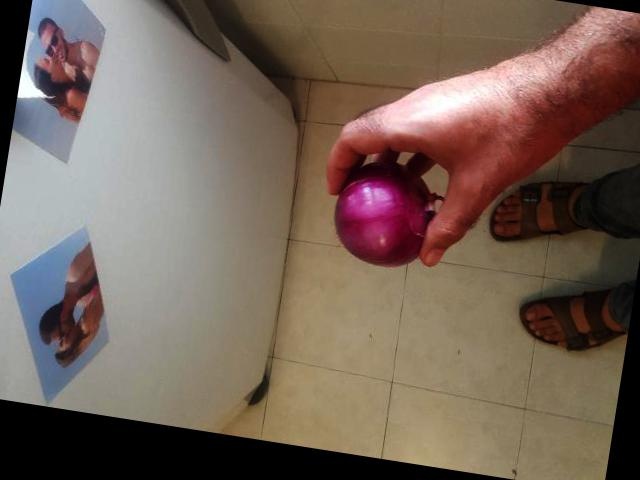onion: (317, 157, 437, 272)
